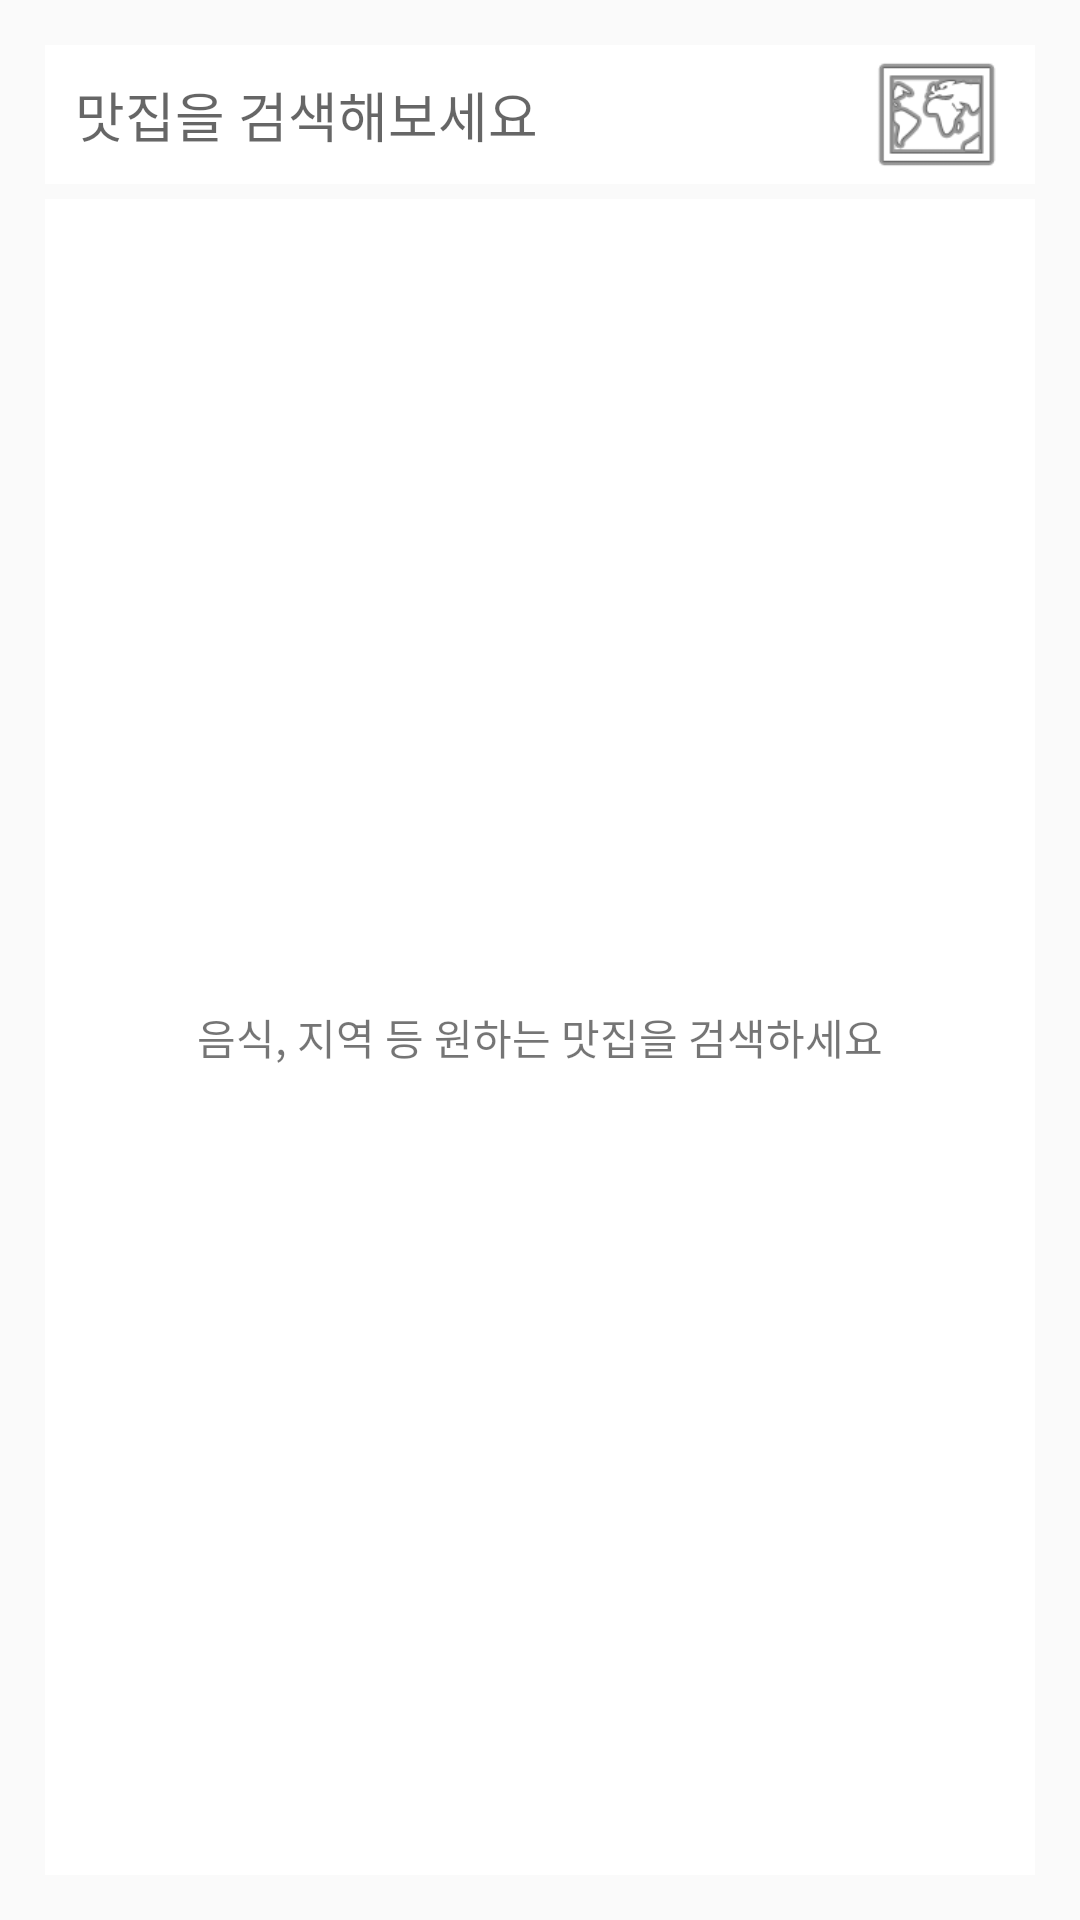

Named icons in this screenshot (1080px×1920px) and their centers, [x,y]:
mapmode: [937,114]
